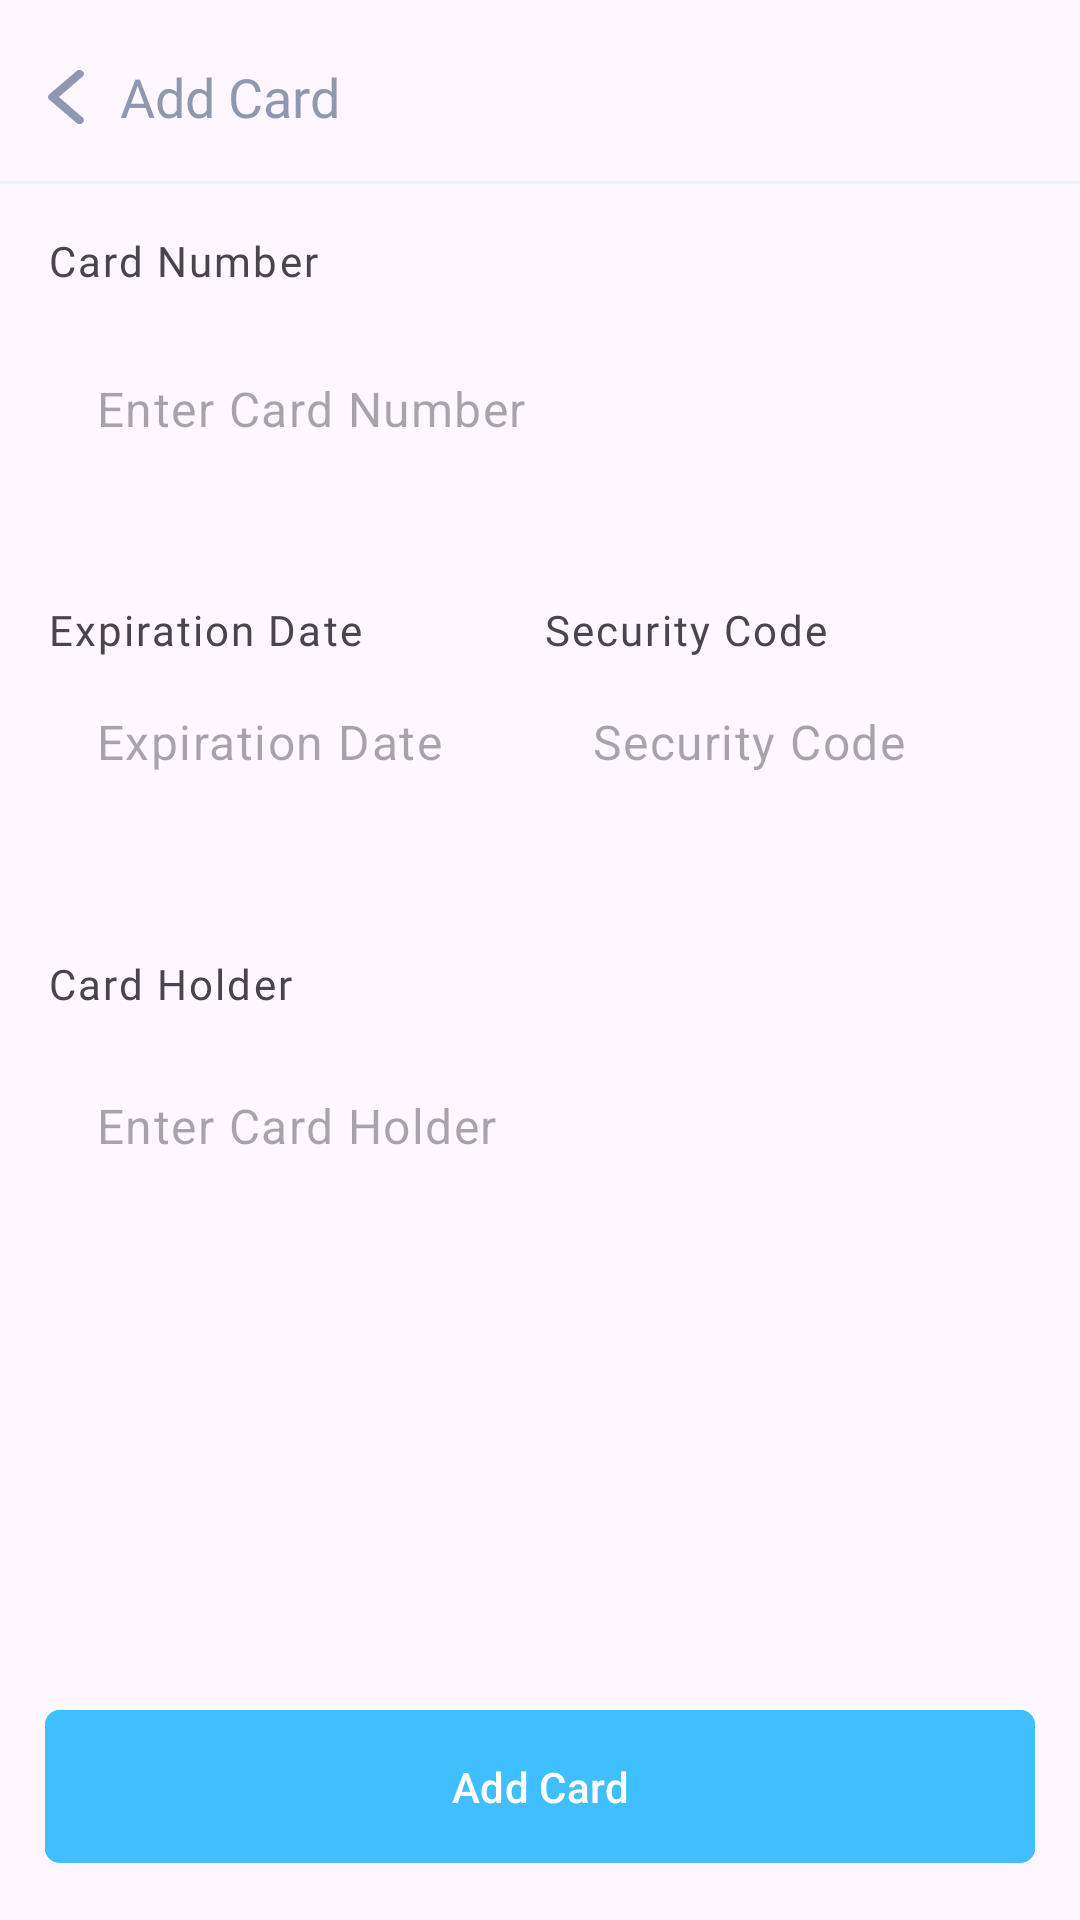

Locate icon controls on the screen. Image size 1080*1920, boxes as (left=x1, top=y1, right=x2, bottom=y2).
arrow: (left=48, top=70, right=84, bottom=124)
